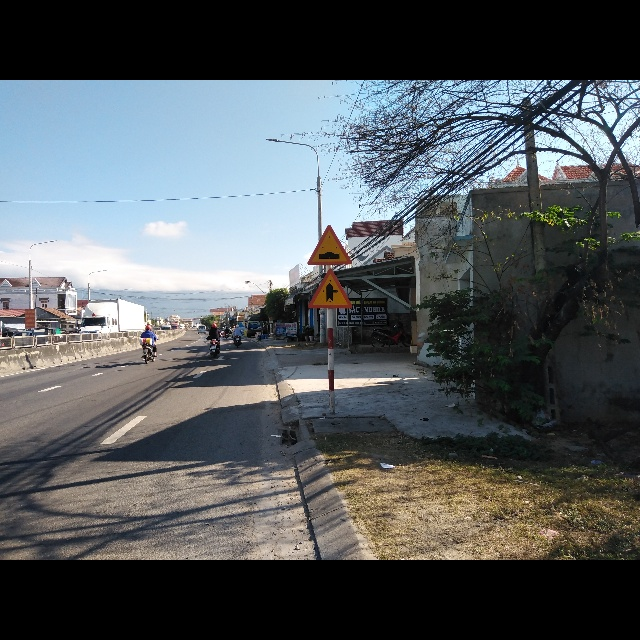Giao nhau với đường không ưu tiên: (306, 269, 352, 309)
Đường không bằng phẳng: (304, 224, 353, 267)
